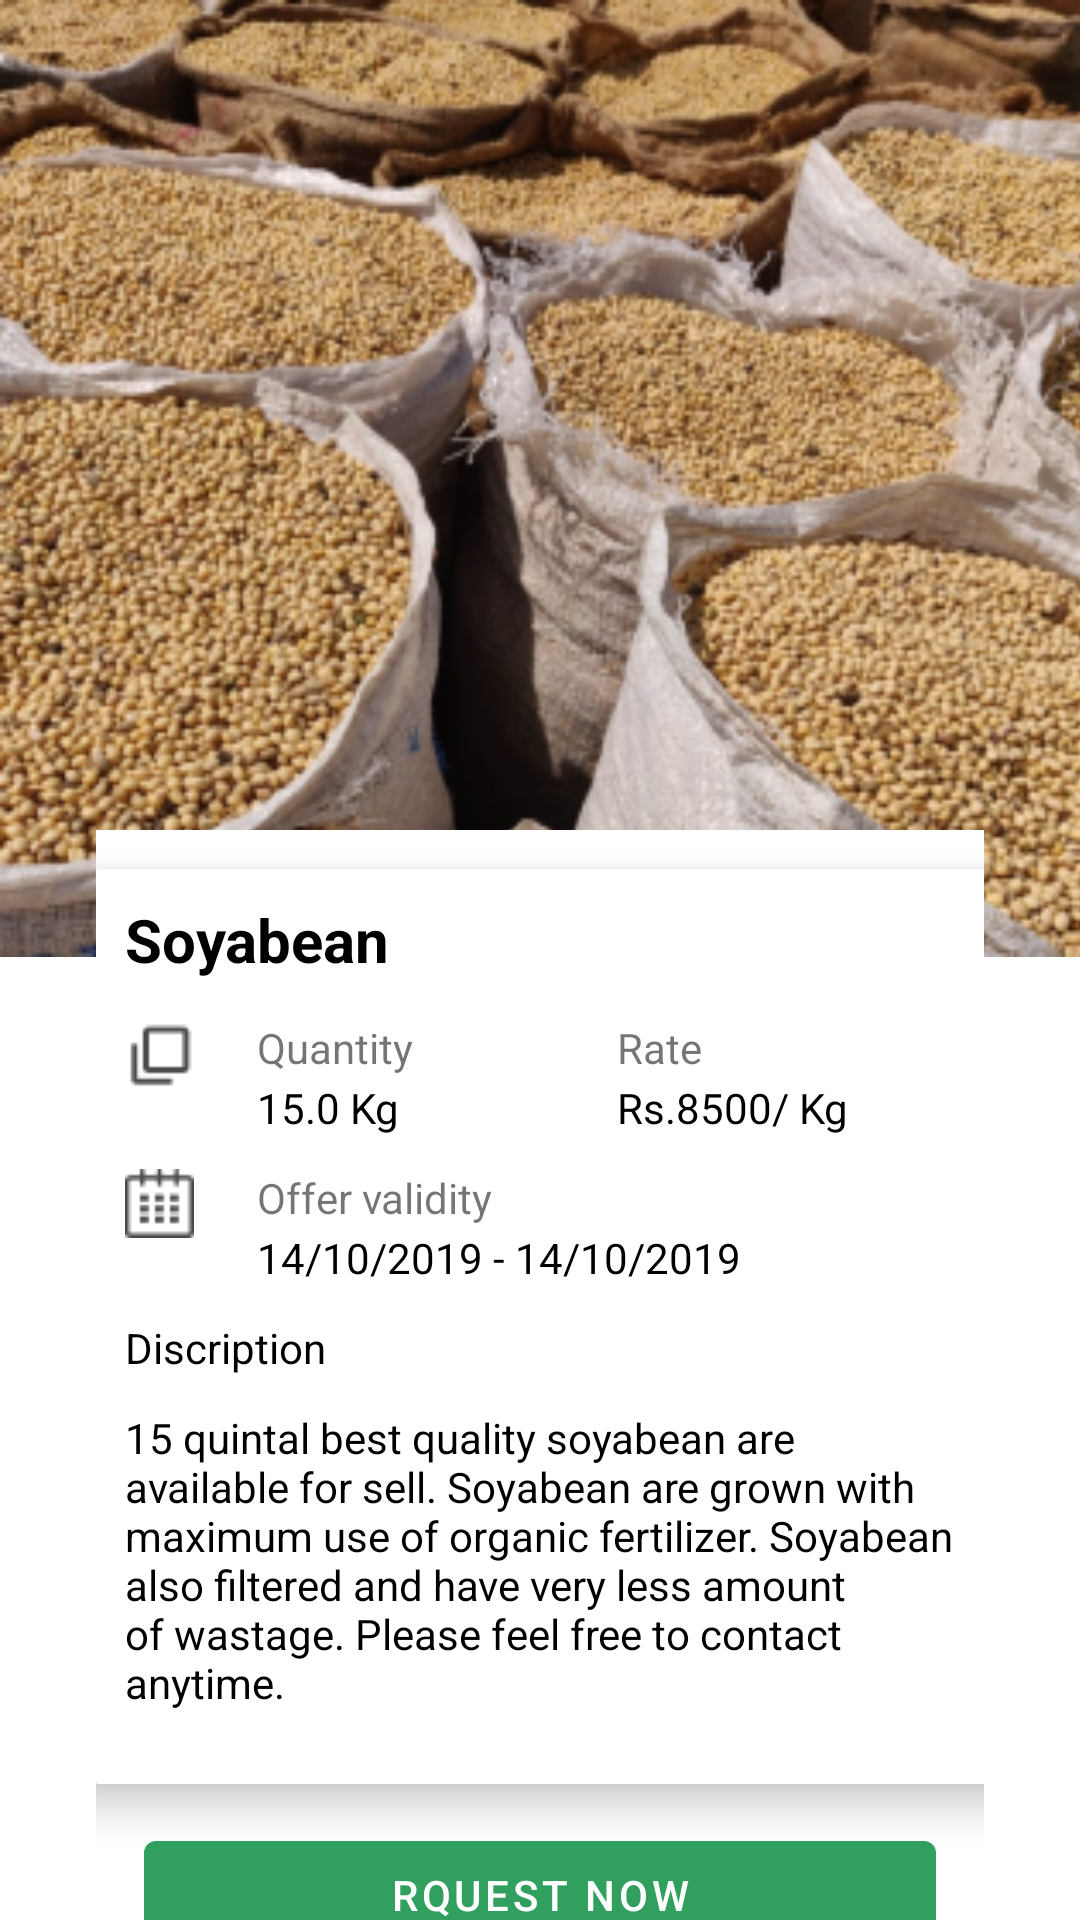

Named icons in this screenshot (1080w x 1920h) and their centers, point (x, y):
fontisto date: point (159, 1203)
select multiple: point (160, 1055)
